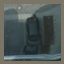car: (24, 14, 41, 53)
